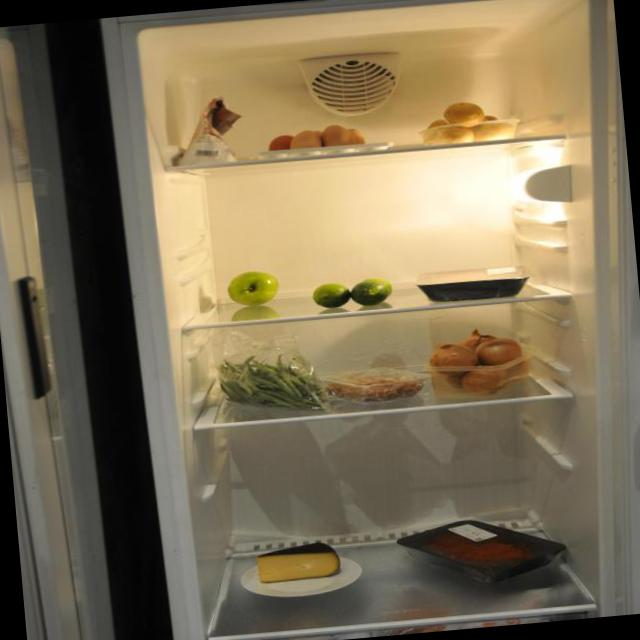Carne vacuno: (418, 517, 542, 587)
Cebolla: (424, 328, 538, 404)
Gambas/Langostinos: (326, 358, 430, 408)
Huevos: (265, 120, 370, 160)
Manzana: (223, 263, 283, 309)
Patata: (422, 96, 514, 148)
Queso: (250, 542, 346, 586)
